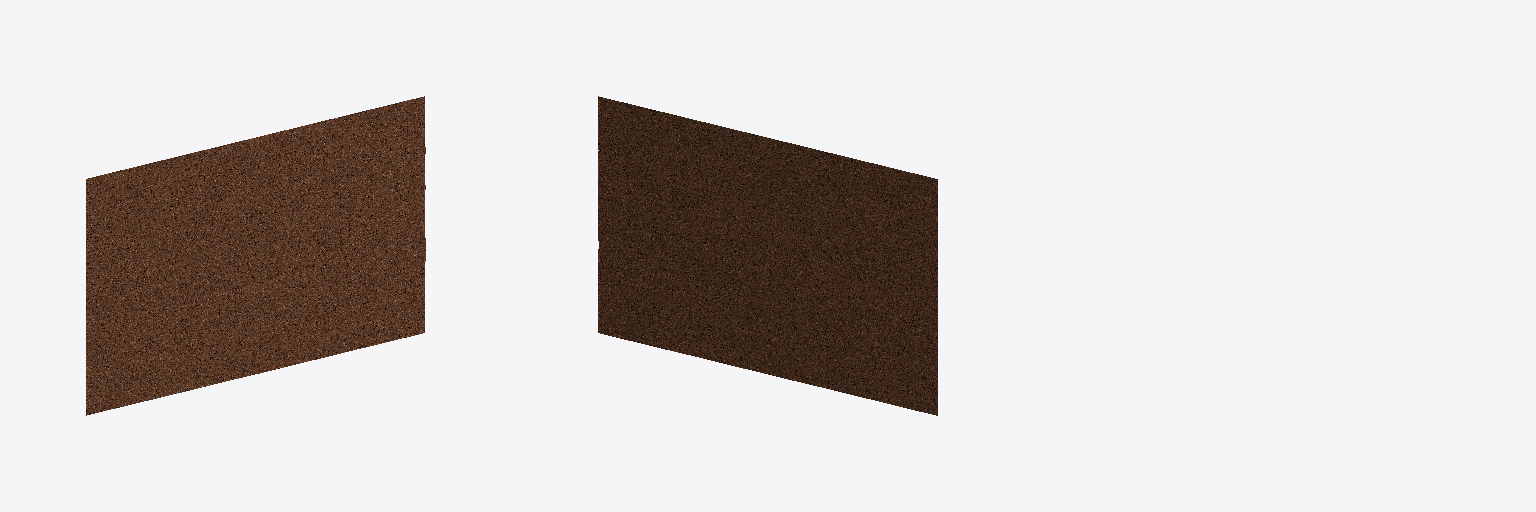
3 views of the same model, side by side, from view 1: azimuth 30°, elevation 25°; view 2: azimuth 150°, elevation 25°; view 3: azimuth 270°, elevation 25° (orthographic).
Parts seen in each view (by area): view 1: Plane; view 2: Plane; view 3: none.
Boxes of the visible parts, x1=… form: Plane: x1=86, y1=96, x2=425, y2=415; Plane: x1=598, y1=96, x2=937, y2=415.
Bounding box in the file's own units: 60.09 × 40.06 × 0.1265.
1 materials, 1 textured.